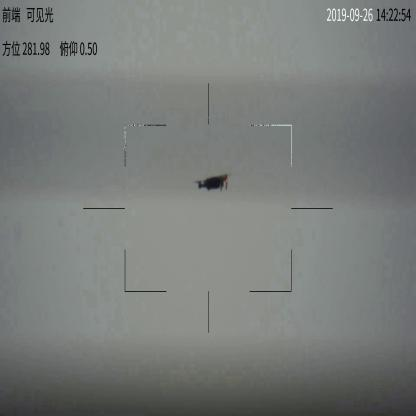uav: (192, 173, 232, 196)
